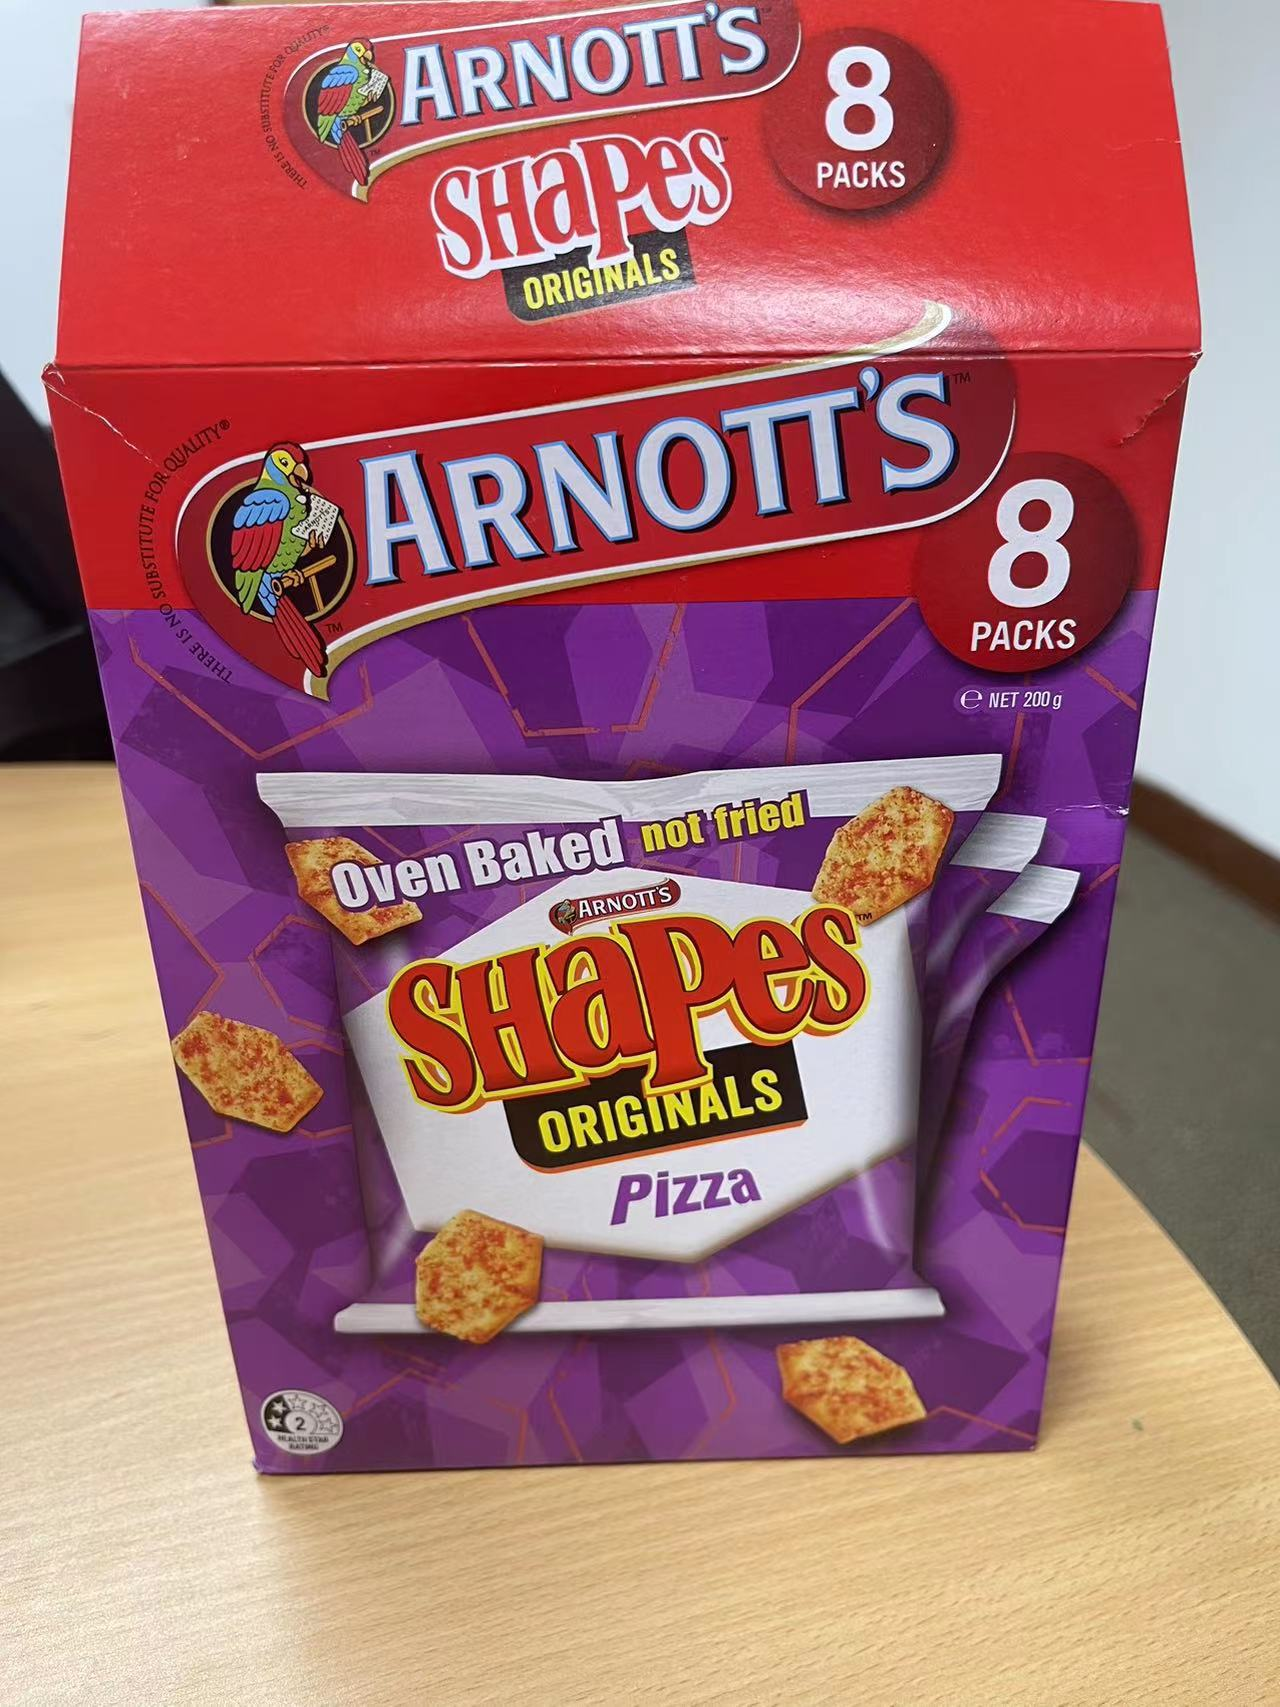Crackers_200-299g_NonHalal_NonHealthy: (79, 12, 1137, 1479)
